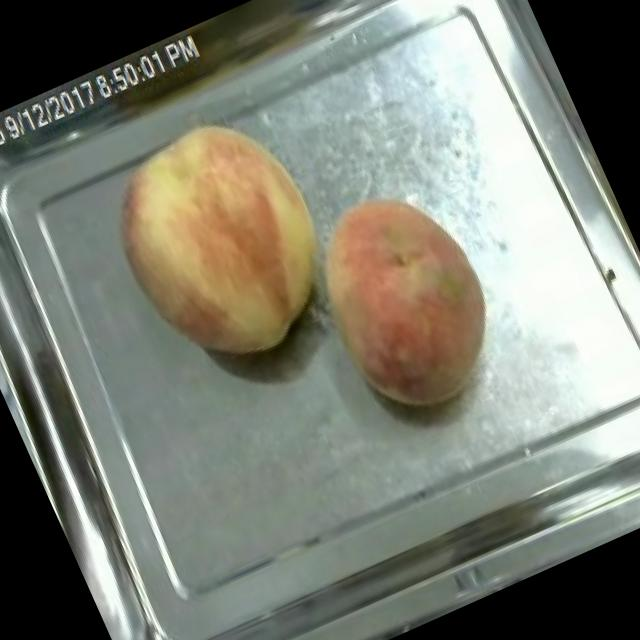Fruit: (78, 86, 365, 396), (281, 163, 529, 440)
